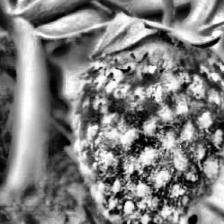Powdery Mildew Fruit: (72, 23, 224, 224)
